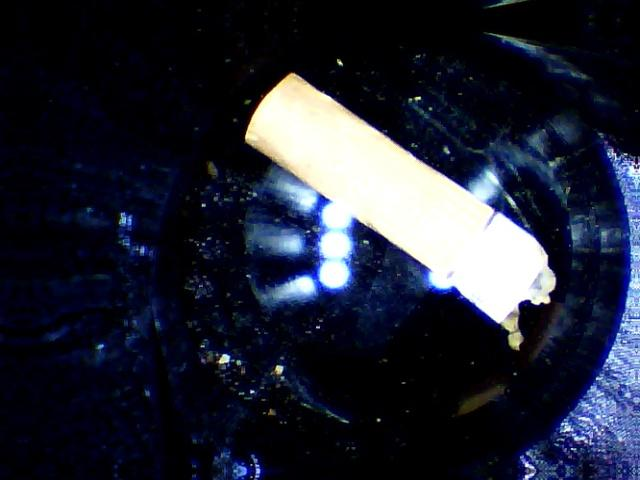megot: (238, 65, 571, 341)
